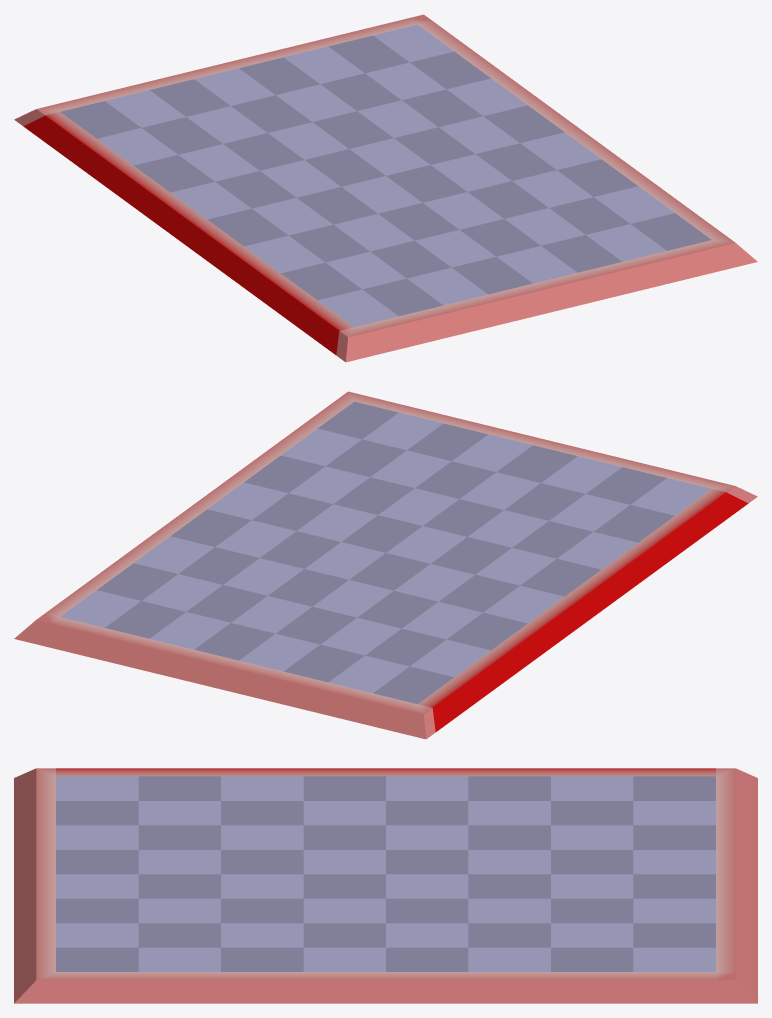
The model's file is Floor_2.glb.
3 renders of one model, top to bottom at view 1: azimuth 30°, elevation 25°; view 2: azimuth 150°, elevation 25°; view 3: azimuth 270°, elevation 25°, orthographic. The views are drawn at different scales.
Parts seen in each view (by area): view 1: Floor_2; view 2: Floor_2; view 3: Floor_2.
Part boxes in pixels (x1=…): Floor_2: x1=14, y1=14, x2=757, y2=362; Floor_2: x1=14, y1=391, x2=757, y2=739; Floor_2: x1=14, y1=768, x2=757, y2=1003.
Bounding box in the file's own units: 6.03 × 0.2073 × 8.41.
